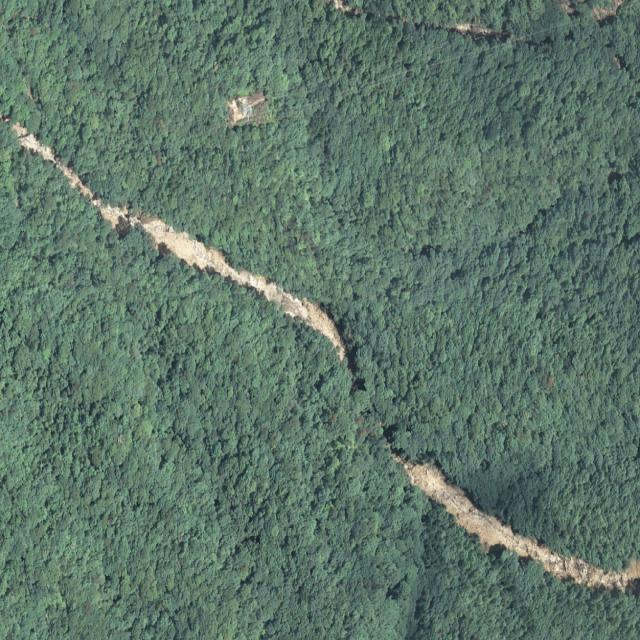landslide: (11, 122, 345, 360), (393, 455, 640, 592)
